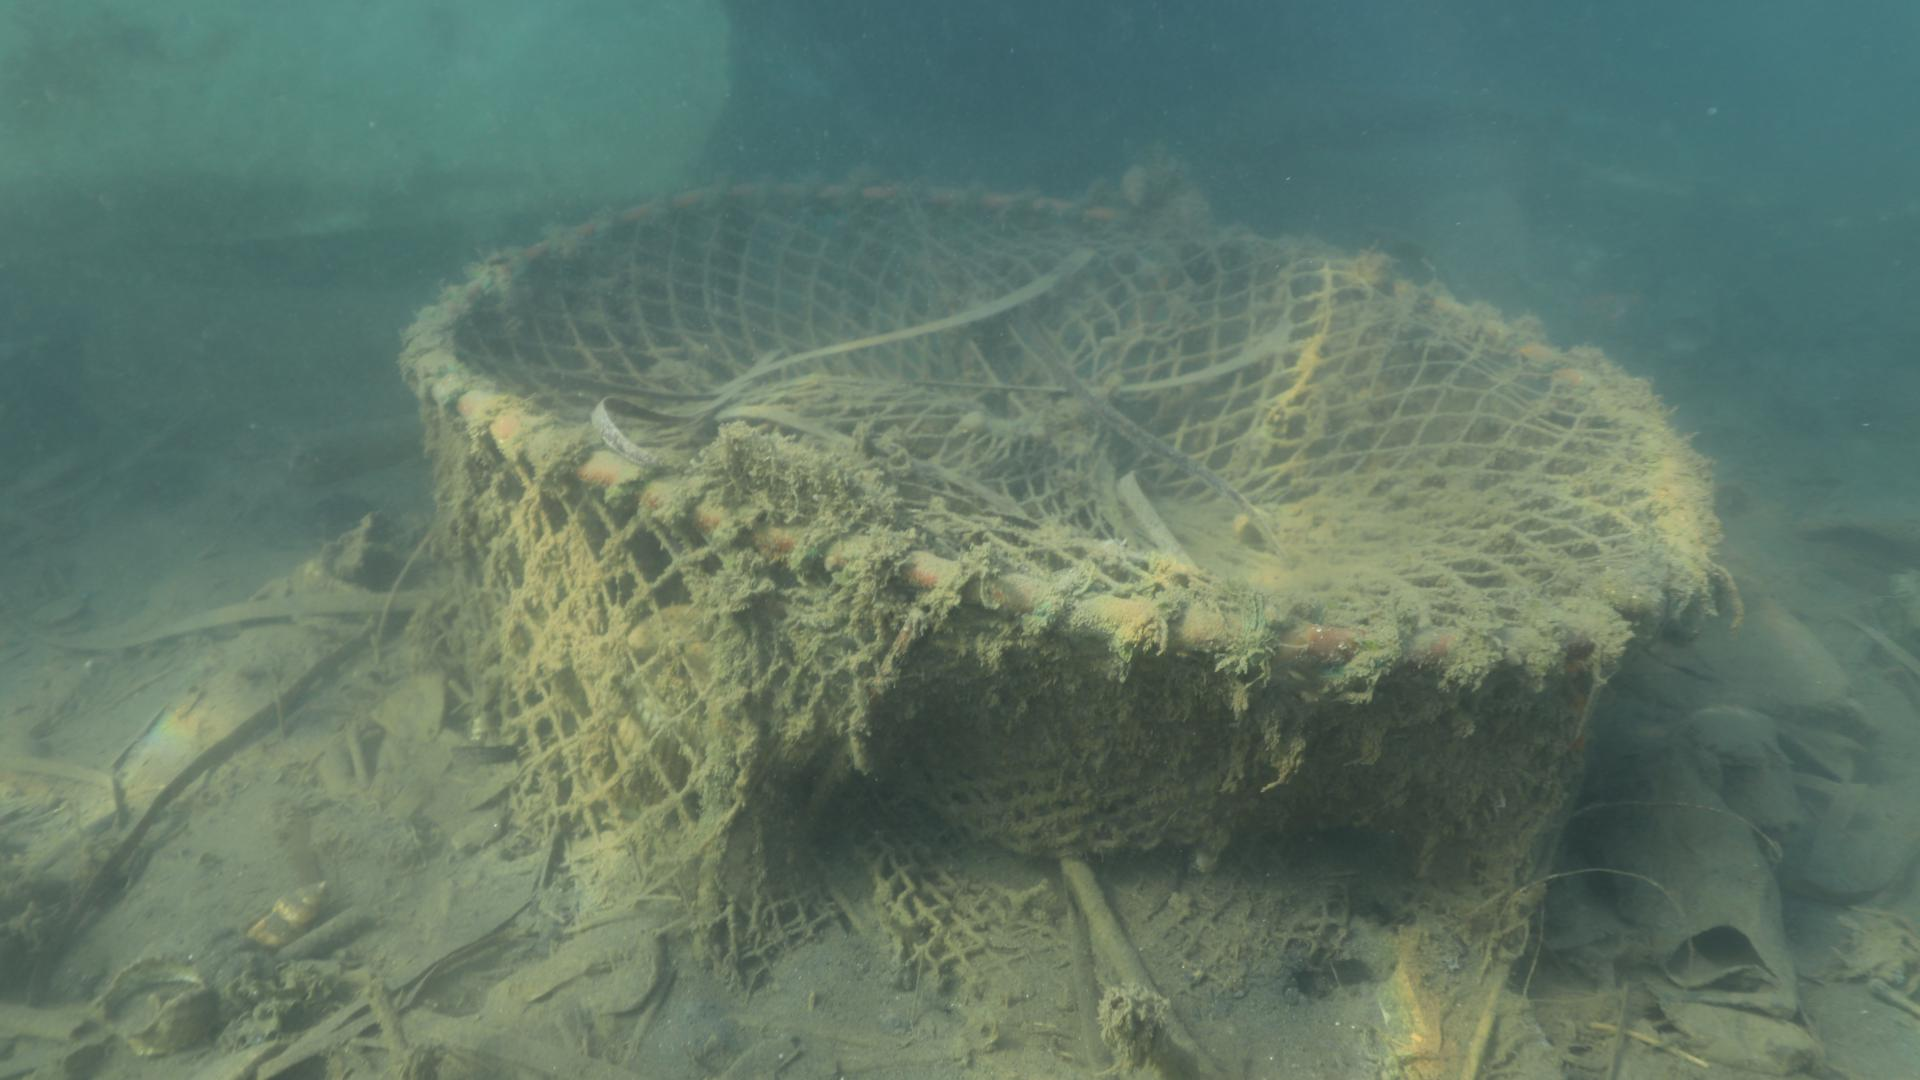circular fish trap: (401, 178, 1712, 942)
